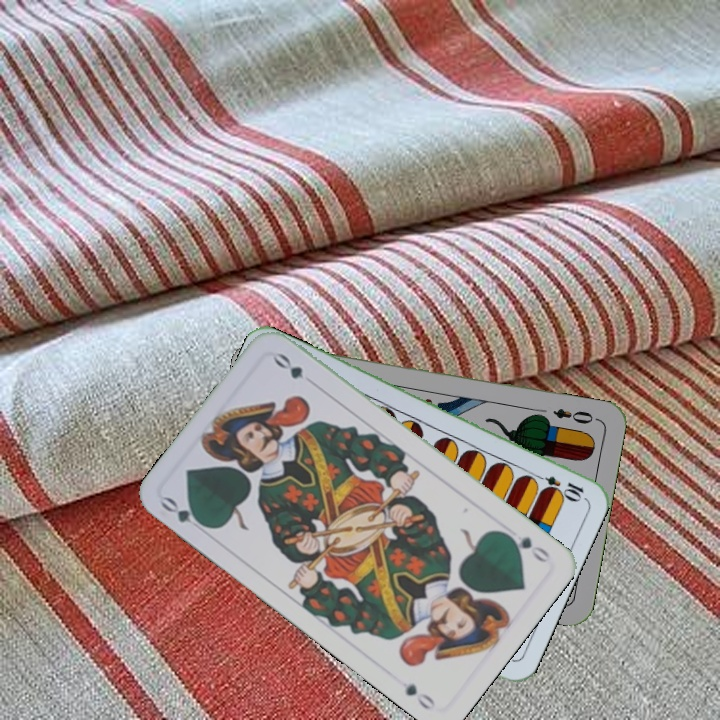E10: (529, 469, 587, 502)
EO: (549, 404, 601, 427)
GO: (156, 492, 212, 531), (500, 528, 553, 565)
